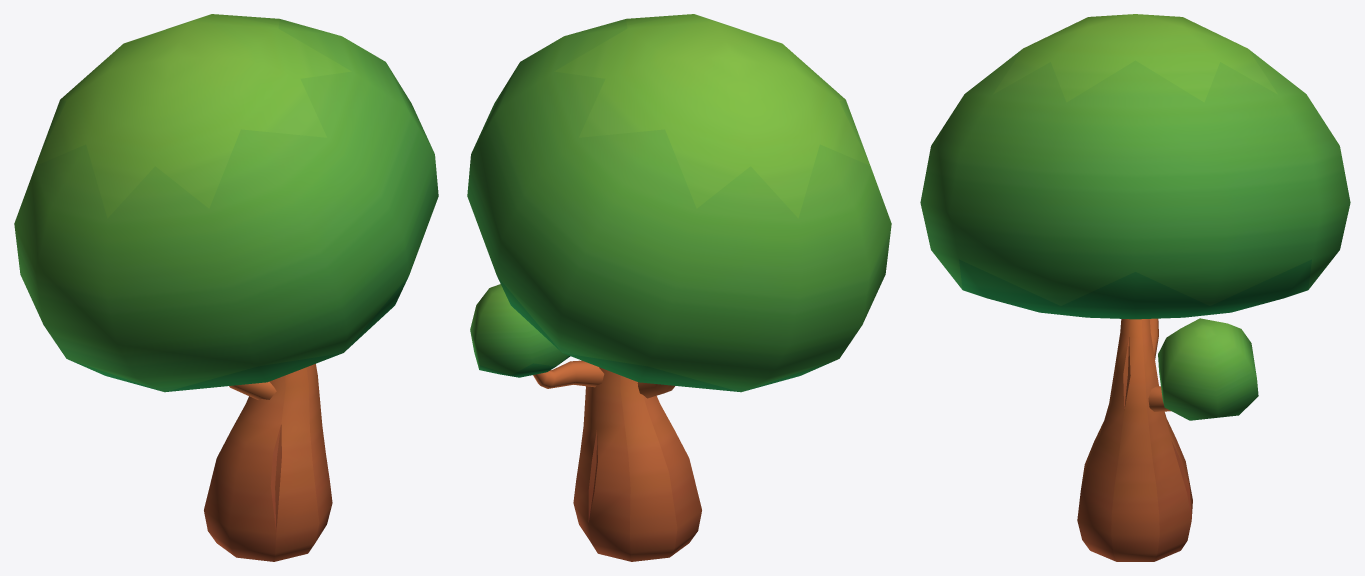
Rendered from tree_1_a_color1.ce777993.glb.
3 views of the same model, side by side, from view 1: azimuth 30°, elevation 25°; view 2: azimuth 150°, elevation 25°; view 3: azimuth 270°, elevation 25° (orthographic). The views are drawn at different scales.
Parts seen in each view (by area): view 1: Tree_1_A_Color1; view 2: Tree_1_A_Color1; view 3: Tree_1_A_Color1.
Boxes of the visible parts, x1,y1,x2,y2 form: Tree_1_A_Color1: (14, 14, 438, 561); Tree_1_A_Color1: (467, 14, 891, 561); Tree_1_A_Color1: (920, 14, 1350, 561).
Bounding box in the file's own units: 3.18 × 4.16 × 3.25.
1 material, 1 textured.
